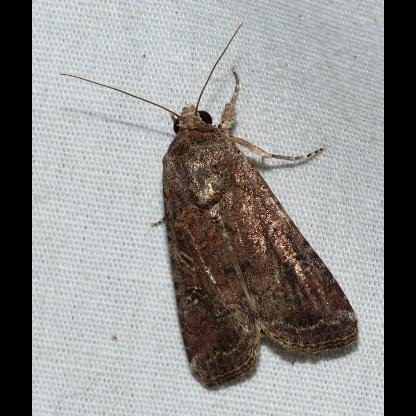Fall Armyworm Moth: (60, 21, 364, 393)
